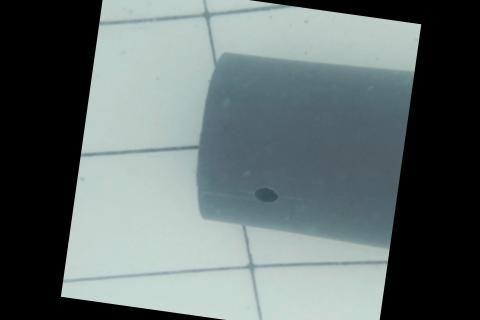kebocoran: (251, 185, 279, 206)
